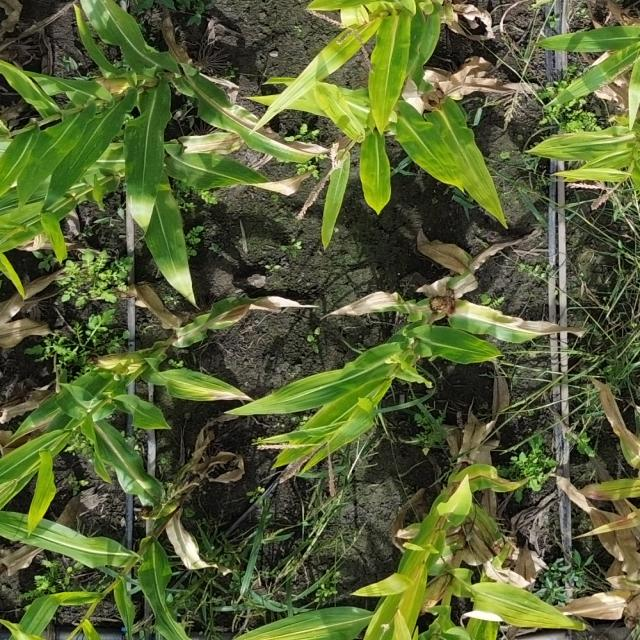northern-leaf-blight: (176, 78, 336, 194), (358, 275, 560, 347), (144, 350, 265, 412), (185, 294, 253, 348)
